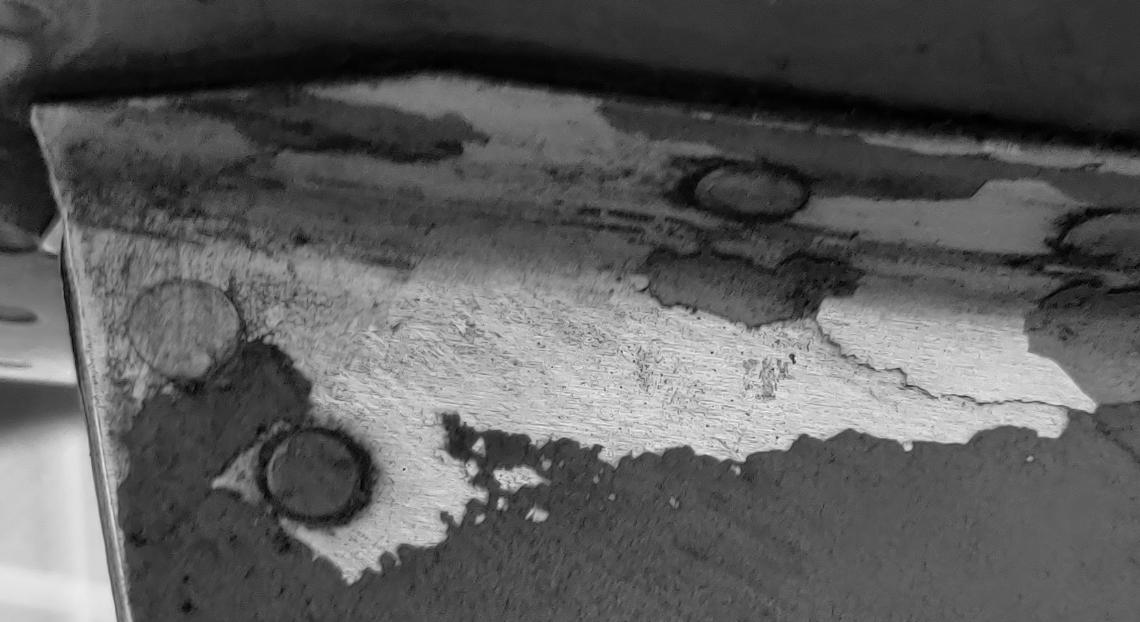paint-off: (1, 0, 1140, 621)
